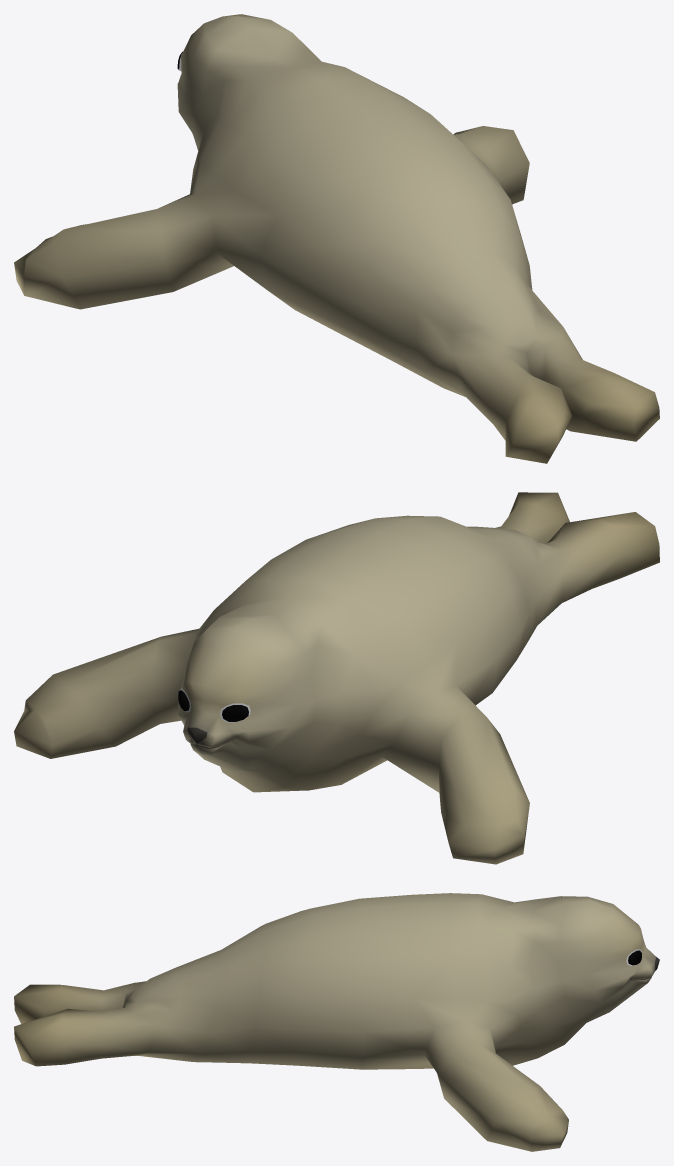
File: BabySeal.min.glb
3 views of the same model, one above another, from view 1: azimuth 30°, elevation 25°; view 2: azimuth 150°, elevation 25°; view 3: azimuth 270°, elevation 25° (orthographic). The views are drawn at different scales.
Visible parts, largest first — view 1: BabySeal; view 2: BabySeal; view 3: BabySeal.
Boxes of the visible parts, x1=… form: BabySeal: x1=14, y1=14, x2=659, y2=463; BabySeal: x1=14, y1=492, x2=659, y2=864; BabySeal: x1=14, y1=893, x2=659, y2=1151.
Bounding box in the file's own units: 0.9594 × 0.3518 × 1.34.
